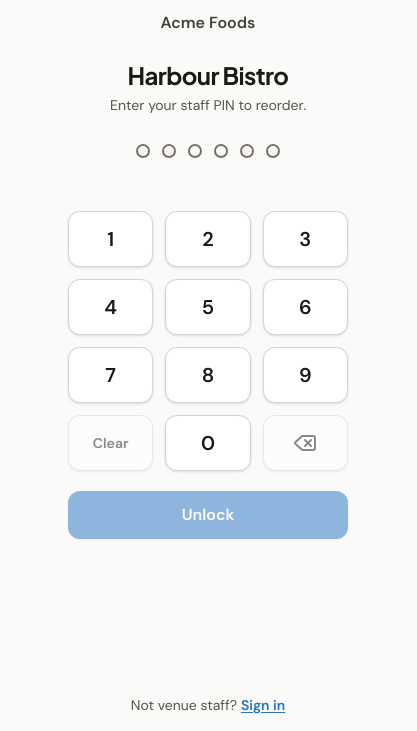
Test: QrEntryScreen — the PIN › shows the dead-sticker screen if the code is replaced while the pad is open
The width and height of the screenshot is (417, 731).
expect the heading "Harbour Bistro" is shown: met, box top-left (128, 59), bottom-right (288, 91)
Click the button "1": (111, 239) top-left (68, 211), bottom-right (153, 267)
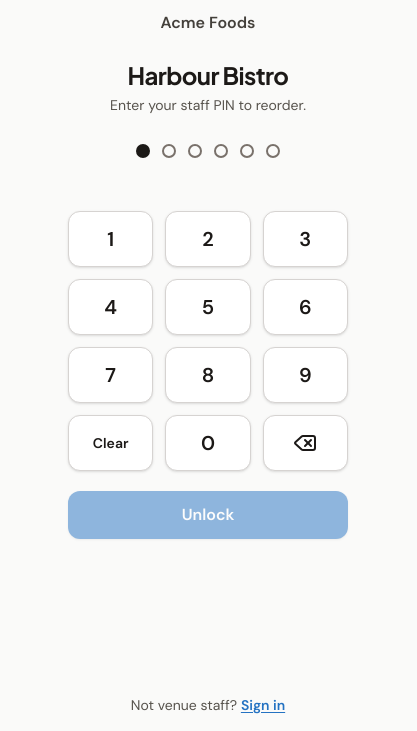
Click the button "3": (305, 239) top-left (263, 211), bottom-right (348, 267)
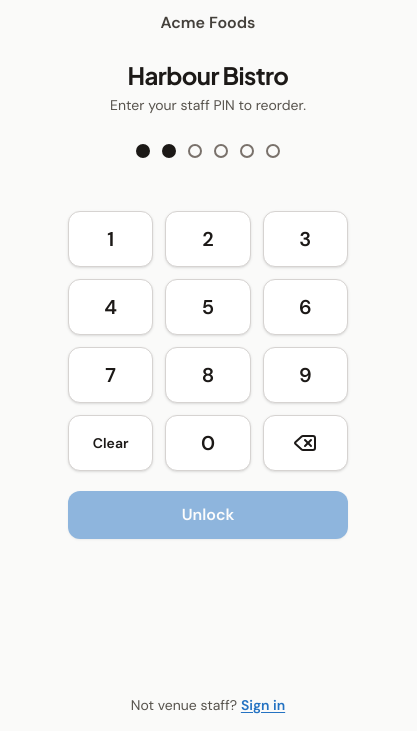
Click the button "5": (208, 307) top-left (165, 279), bottom-right (251, 335)
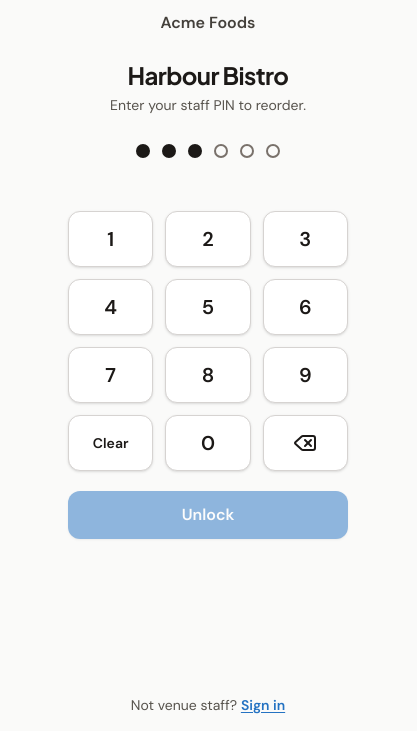
Click the button "7": (111, 375) top-left (68, 347), bottom-right (153, 403)
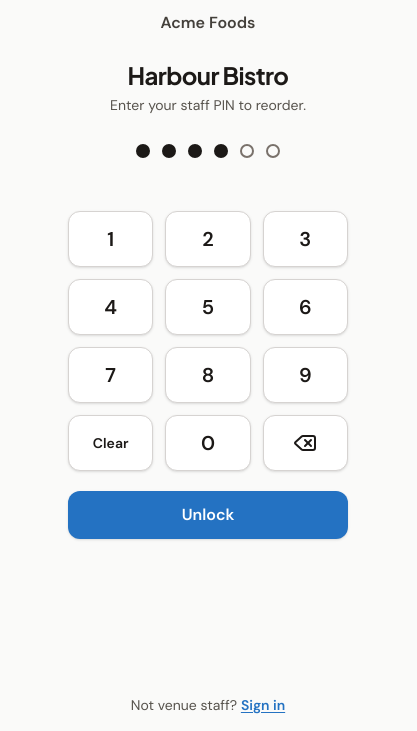
Click the button "Unlock": (208, 515) top-left (68, 491), bottom-right (348, 539)
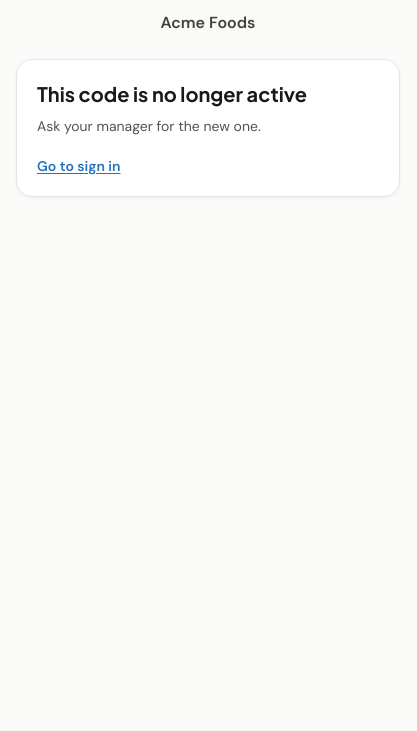
expect the heading "This code is no longer active" is shown: met, box top-left (37, 81), bottom-right (307, 106)
